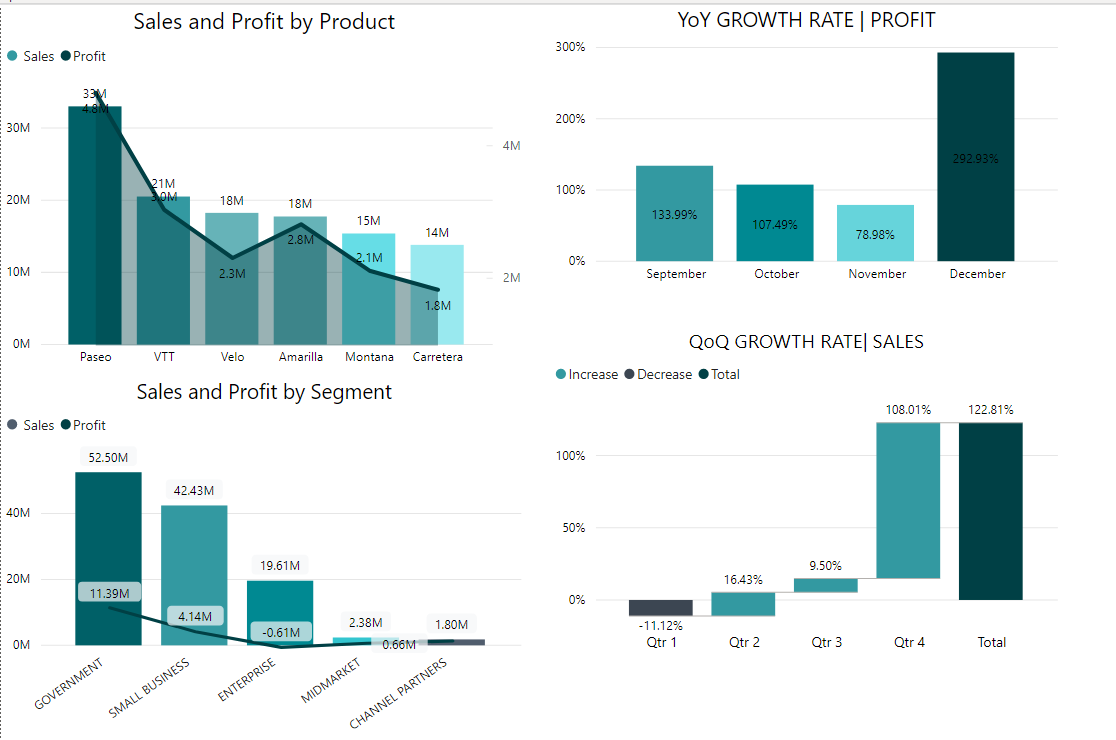

The page's visual inventory and layout, read from the dashboard file:
{"tool":"powerbi","page":{"name":"PROFIT | SALES","canvas":[1280,720],"ordinal":3},"visuals":[{"type":"lineClusteredColumnComboChart","fields":{"Category":["financials.Product"],"Y":["Sum(financials. Sales)"],"Y2":["Sum(financials.Profit)"]},"box":[0,0,510.2,360.6],"z":0},{"type":"lineClusteredColumnComboChart","fields":{"Category":["financials.Segment"],"Y":["Sum(financials. Sales)"],"Y2":["Sum(financials.Profit)"]},"box":[0,359.4,510.2,360.6],"z":1000},{"type":"waterfallChart","title":"QoQ GROWTH RATE| SALES","fields":{"Category":["financials.Date.Variation.Date Hierarchy.Quarter"],"Y":["financials.Sales QoQ%"]},"box":[531.9,312.4,498.1,324.4],"z":2000},{"type":"columnChart","title":"YoY GROWTH RATE | PROFIT","fields":{"Y":["financials.Profit YoY%"],"Category":["financials.Date.Variation.Date Hierarchy.Month","financials.Date.Variation.Date Hierarchy.Day"]},"box":[531.9,0,498.1,279.8],"z":3000}]}

Visuals, with their boxes on the page's 1280x720 design canvas (x1, y1, x2, y2). These are canvas units, not pixel positions in the 1116x740 screenshot, which may show the page scaled, cropped or inside an application window:
lineClusteredColumnComboChart - financials.Product x Sum(financials. Sales): [left=0, top=0, right=510, bottom=361]
lineClusteredColumnComboChart - financials.Segment x Sum(financials. Sales): [left=0, top=359, right=510, bottom=720]
"QoQ GROWTH RATE| SALES" waterfallChart: [left=532, top=312, right=1030, bottom=637]
"YoY GROWTH RATE | PROFIT" columnChart: [left=532, top=0, right=1030, bottom=280]
